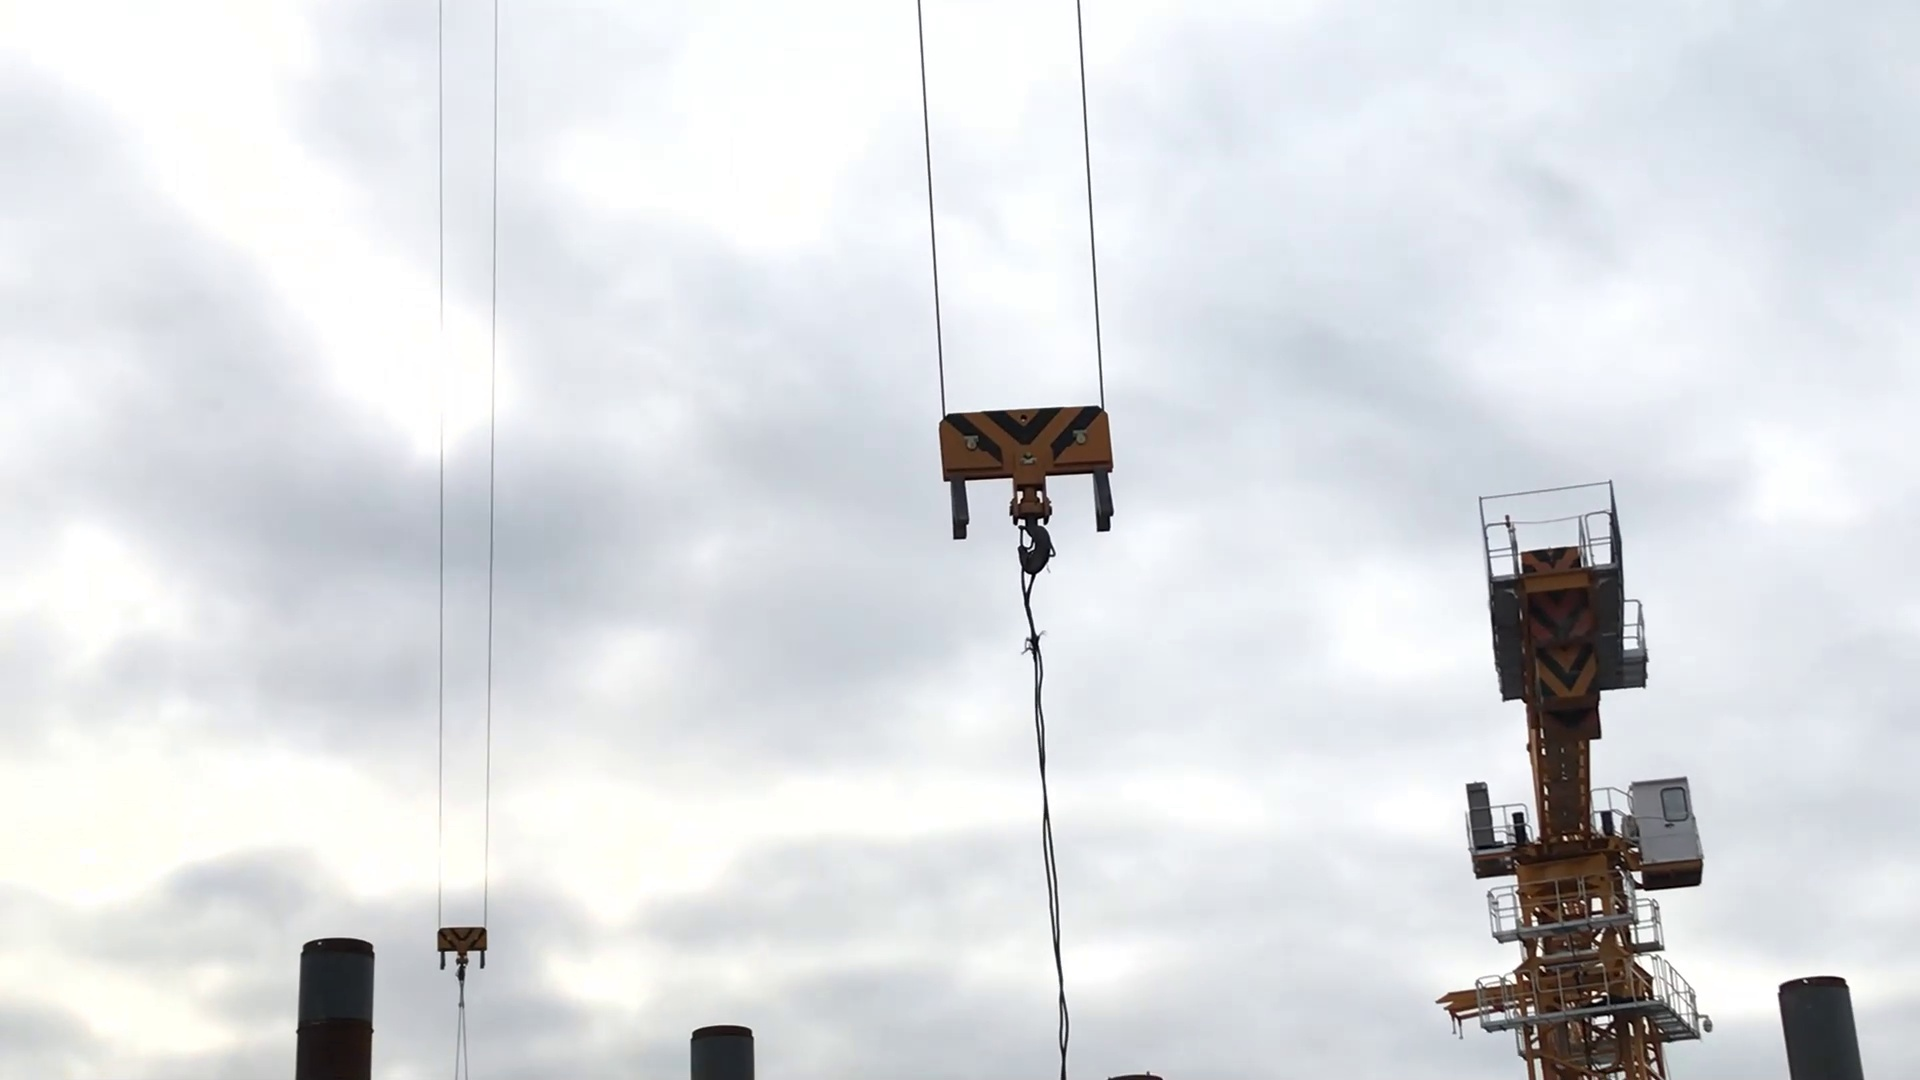hook: (934, 400, 1120, 564), (425, 928, 501, 967)
